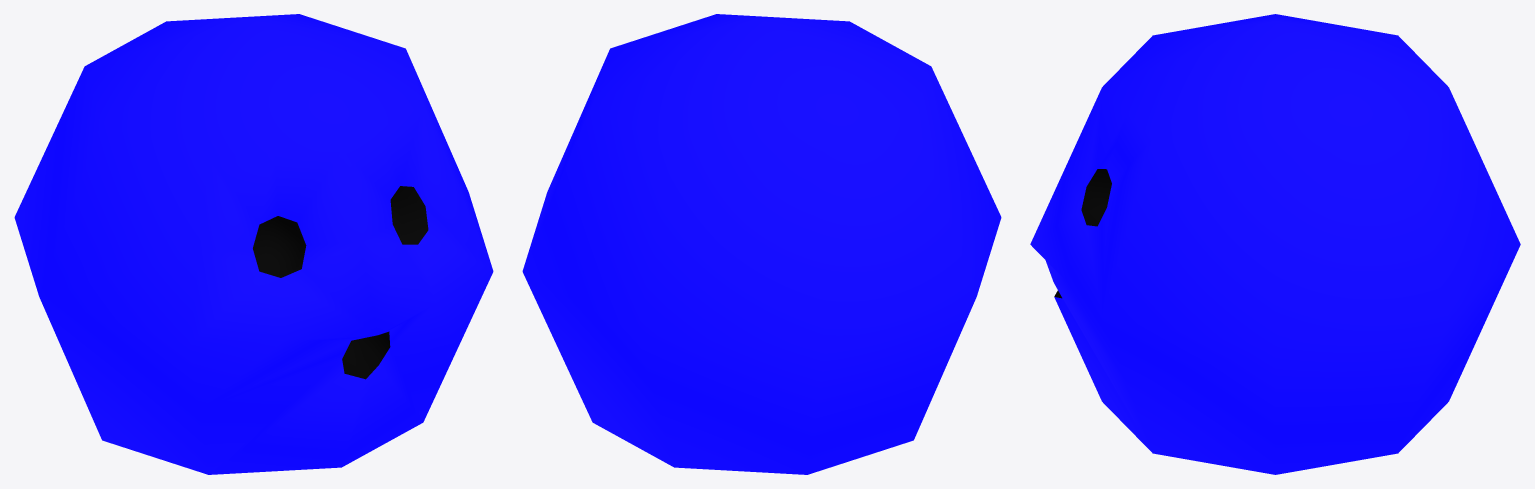
The model's file is BolaNormalNeon.fbx.
The picture shows the model from 3 angles, left to right: view 1: azimuth 30°, elevation 25°; view 2: azimuth 150°, elevation 25°; view 3: azimuth 270°, elevation 25°; orthographic projection.
Parts seen in each view (by area): view 1: Sphere; view 2: Sphere; view 3: Sphere.
Part boxes in pixels (x1,y1,x2,y2): Sphere: [14, 14, 493, 474]; Sphere: [522, 14, 1001, 474]; Sphere: [1030, 14, 1520, 474].
Size of the model in its own units: 70 by 70 by 70.
